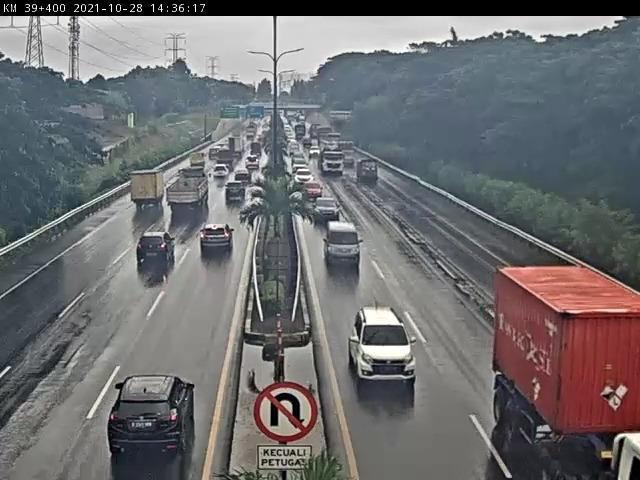car: (105, 374, 201, 464), (351, 308, 420, 387), (322, 218, 360, 264), (138, 232, 177, 266), (200, 222, 235, 256), (312, 198, 342, 225), (224, 180, 246, 202), (302, 182, 325, 201), (295, 170, 316, 189), (233, 167, 253, 184), (212, 165, 231, 182)
truck: (493, 264, 640, 480), (164, 170, 211, 216), (129, 170, 167, 213), (356, 160, 380, 182)
